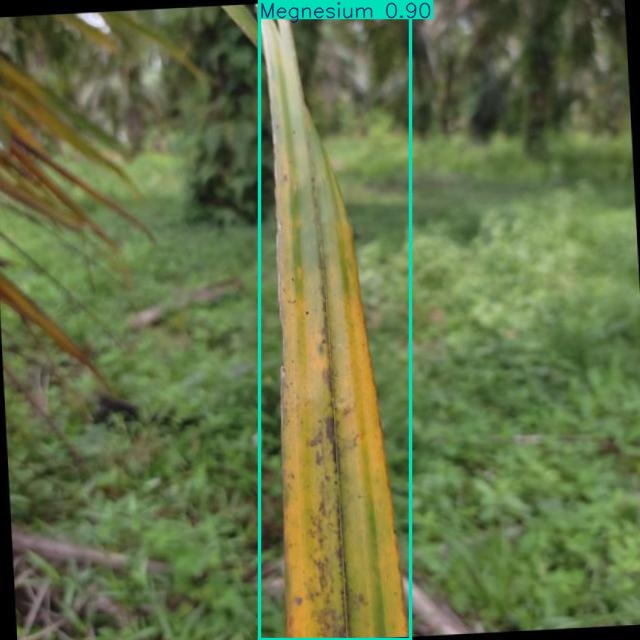Megnesium: (260, 1, 411, 640)
